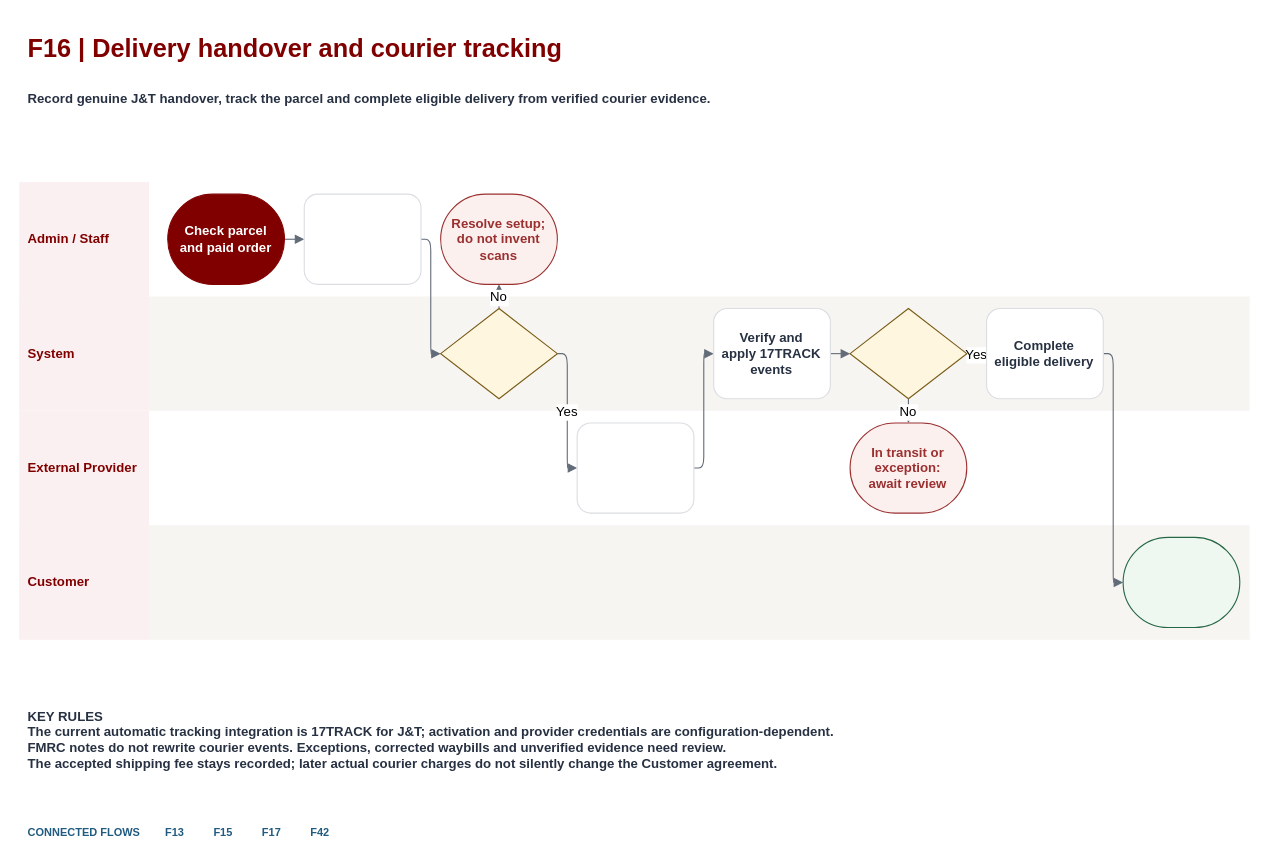
This 1268x860 diagram has some shape labels left out. Here are the shapes that lost their labels. From the top down, the centre of each, then its label:
At point 362,238: "Record J&T waybill and handover".
At point 498,353: "Tracking ready?".
At point 908,353: "Delivered and eligible?".
At point 635,467: "Deliver parcel; publish scans".
At point 1181,582: "View delivered order and timeline".
